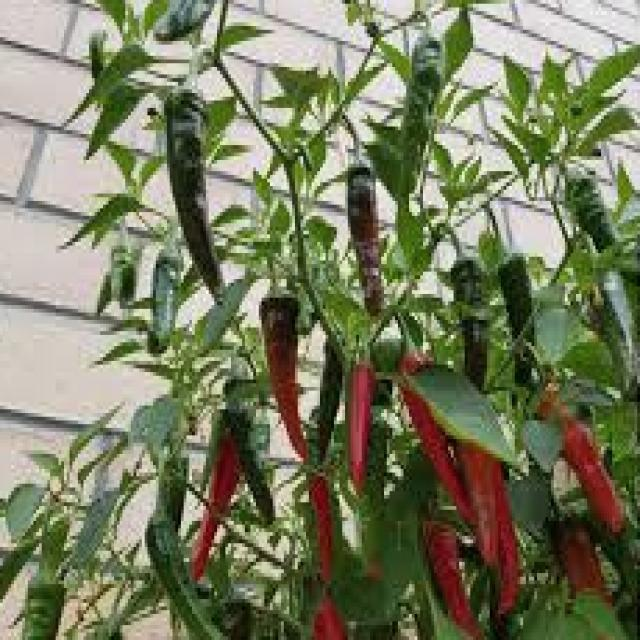hot pepper: (120, 480, 253, 640), (146, 75, 234, 312), (390, 354, 477, 544), (245, 280, 326, 483), (452, 424, 532, 610), (537, 498, 640, 640), (545, 400, 638, 554), (179, 423, 259, 599), (552, 150, 640, 308), (396, 11, 449, 241), (334, 154, 400, 313), (0, 510, 80, 640), (324, 342, 386, 507), (409, 510, 484, 640), (447, 240, 505, 407), (497, 252, 552, 408), (295, 453, 349, 585), (144, 0, 228, 48)
